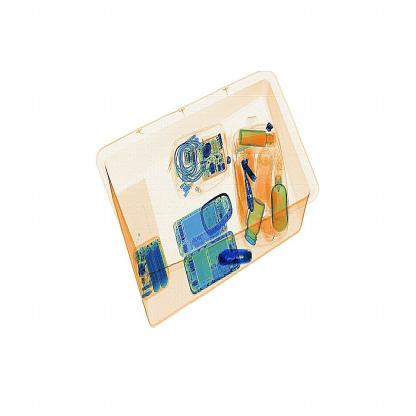scissors: (216, 247, 256, 271)
